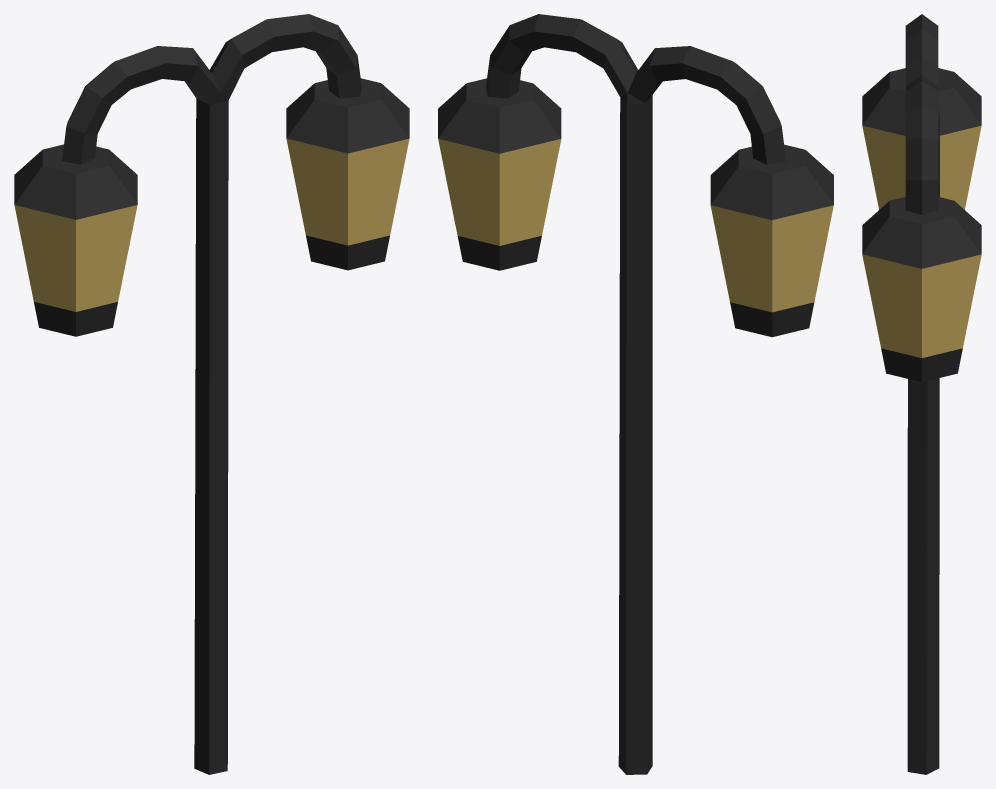
Rendered from DoubleLamp.obj.
3 views of the same model, side by side, from view 1: azimuth 30°, elevation 25°; view 2: azimuth 150°, elevation 25°; view 3: azimuth 270°, elevation 25° (orthographic). The views are drawn at different scales.
Parts seen in each view (by area): view 1: Cylinder.004; view 2: Cylinder.004; view 3: Cylinder.004.
Boxes of the visible parts, x1,y1,x2,y2 form: Cylinder.004: (14, 14, 409, 774); Cylinder.004: (438, 14, 833, 774); Cylinder.004: (862, 14, 981, 774).
Bounding box in the file's own units: 2.57 × 4.56 × 0.6928.
